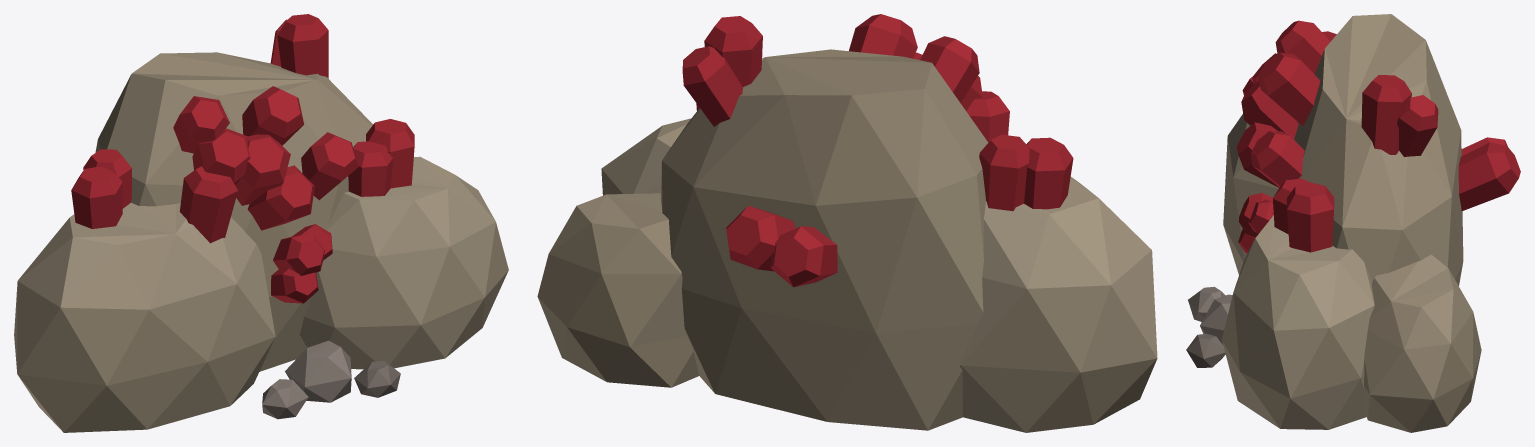
The model's file is ruby-ore-deposit-ea3bd8.glb.
3 views of the same model, side by side, from view 1: azimuth 30°, elevation 25°; view 2: azimuth 150°, elevation 25°; view 3: azimuth 270°, elevation 25° (orthographic). The views are drawn at different scales.
Visible parts, largest first — view 1: ruby-ore-deposit-mesh, rubies-mesh; view 2: ruby-ore-deposit-mesh, rubies-mesh; view 3: ruby-ore-deposit-mesh, rubies-mesh.
Boxes of the visible parts, box(x1,y1,x2,y2) form: ruby-ore-deposit-mesh: box(14, 52, 508, 432); rubies-mesh: box(71, 14, 414, 303); ruby-ore-deposit-mesh: box(537, 49, 1157, 432); rubies-mesh: box(682, 14, 1073, 287); ruby-ore-deposit-mesh: box(1186, 14, 1481, 432); rubies-mesh: box(1236, 20, 1520, 253).
Bounding box in the file's own units: 1.55 × 0.9171 × 0.9589.
